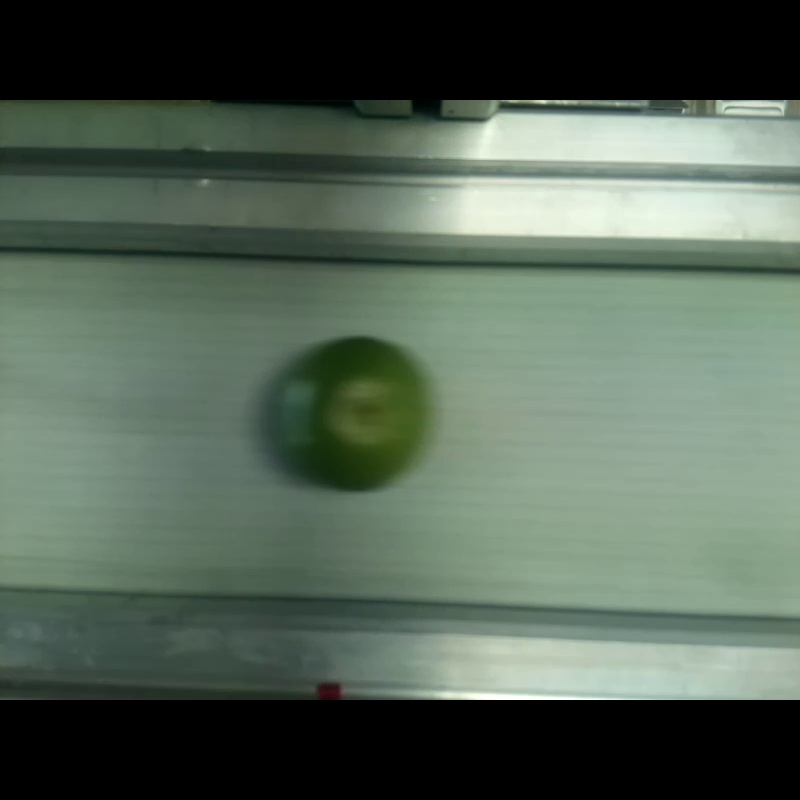lime: (278, 336, 428, 492)
